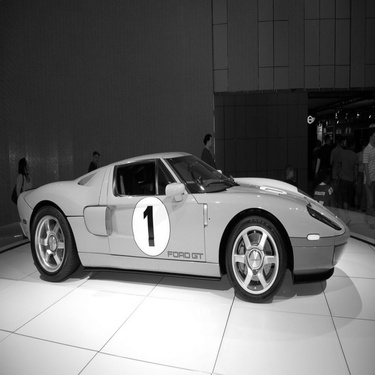car: (13, 147, 356, 304)
